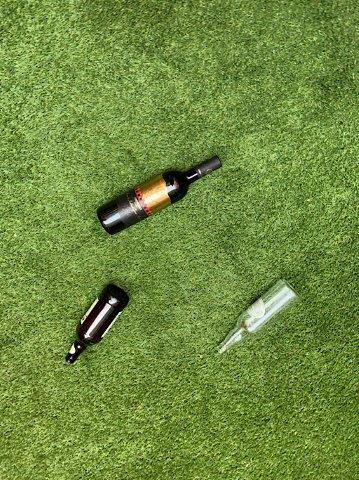botolkaca: (96, 156, 223, 234), (214, 280, 297, 351), (64, 284, 129, 363)
